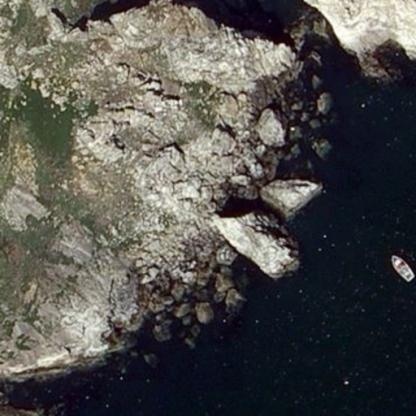ship: (380, 247, 416, 286)
